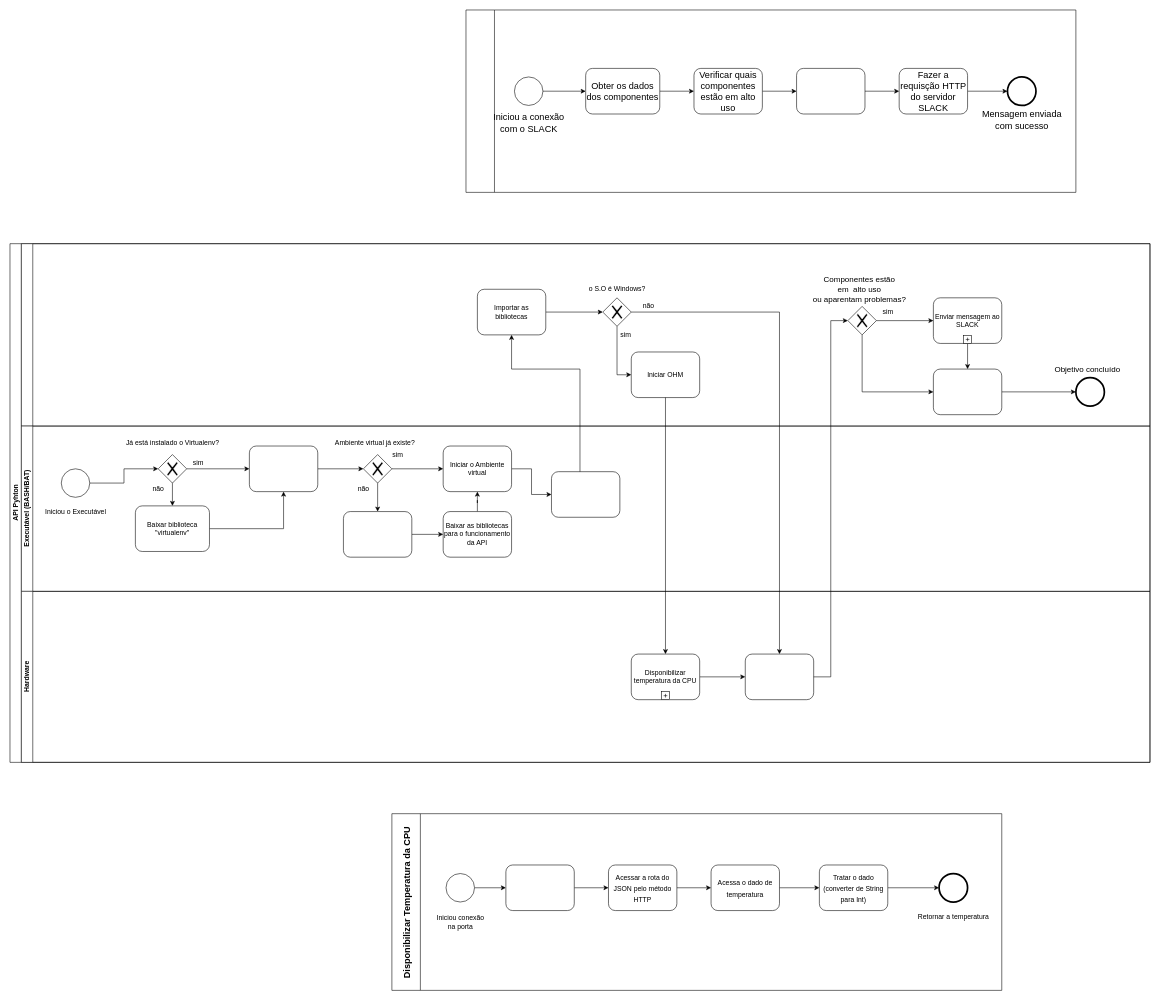
Image size: 1160x1000. Some labels were removed from this diagram. Each missing label, with the box of its shape:
Aplicação: (21, 243, 1150, 426)
Cadastrar os dados obtidos: (933, 369, 1002, 415)
Criar a mensagem de alerta: (796, 68, 865, 114)
Criar ambiente virtual: (343, 511, 412, 557)
Disponibilizar informações dos componentes: (745, 654, 814, 700)
Enviar mensagem com SLACK: (465, 9, 1076, 192)
Gerar JSON: (505, 864, 574, 911)
Iniciar a aplicação: (551, 471, 620, 517)
Perguntar nome do ambiente virtual: (249, 445, 318, 492)
